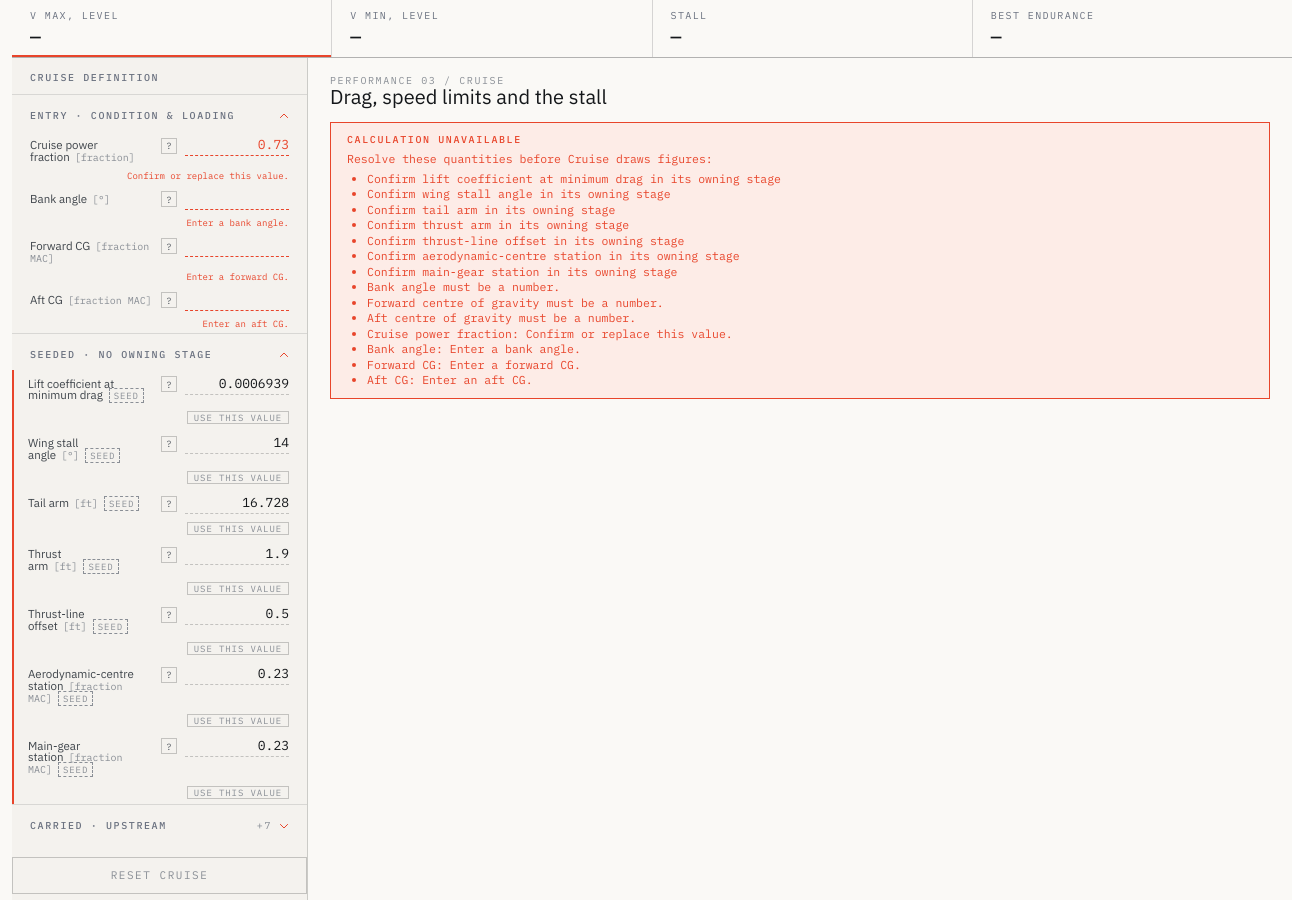
a seeded quantity can be resolved from the sheet that needs it › accepting a seed clears that quantity from the blocker list
Check: the list item "Confirm tail arm in its owning stage" is shown, box [367, 202, 615, 216]
Click the 3rd button "USE THIS VALUE": (238, 529) [187, 522, 289, 535]
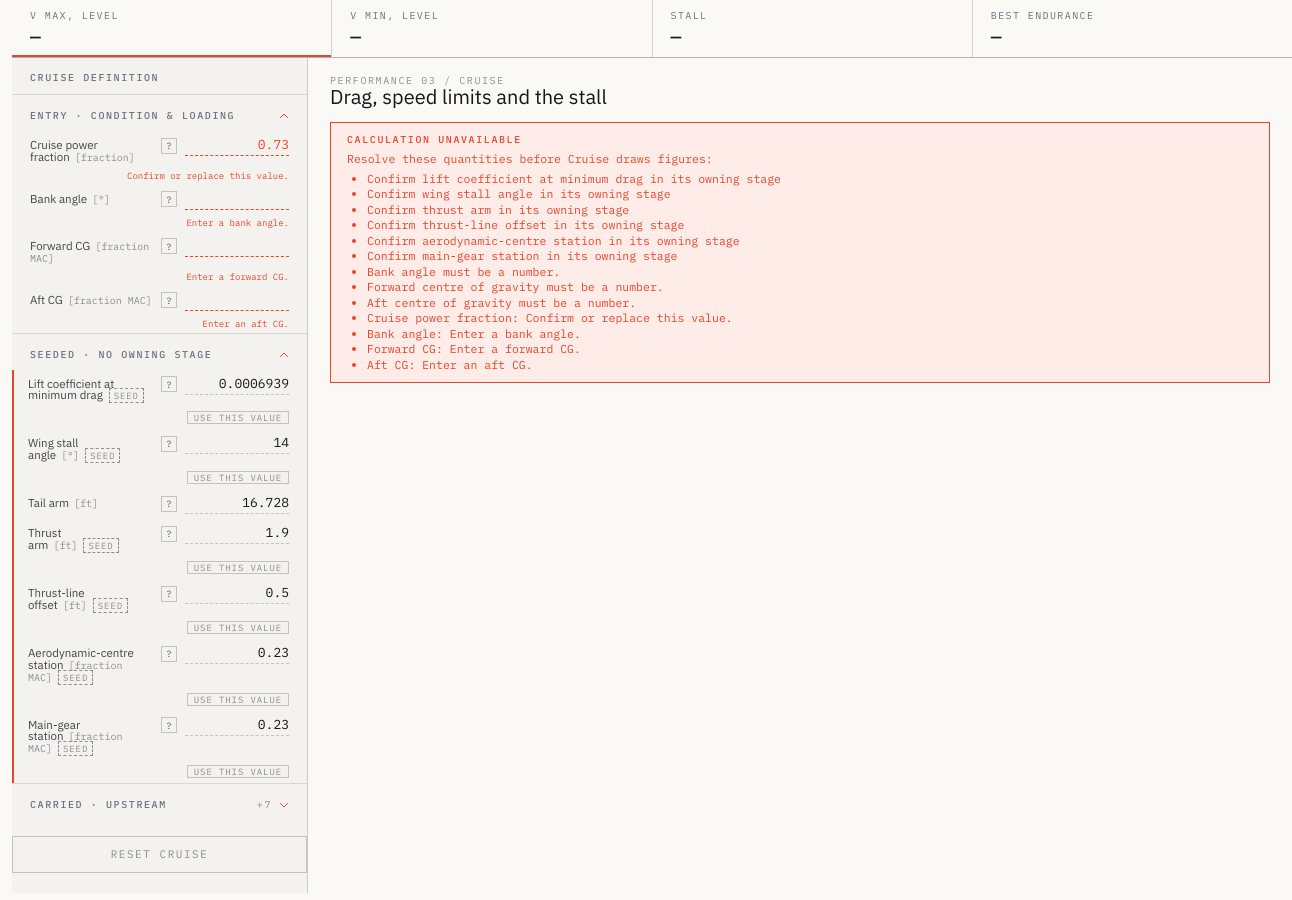
Check: the list item "Confirm tail arm in its owning stage" is gone
